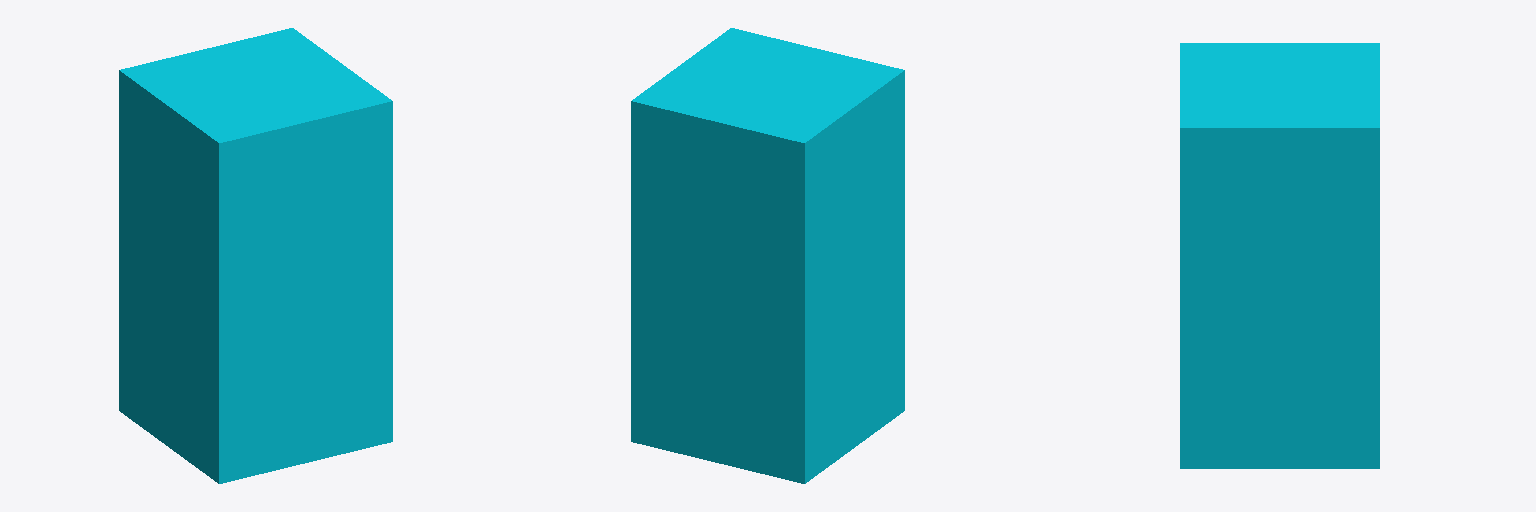
3 renders of one model, left to right at view 1: azimuth 30°, elevation 25°; view 2: azimuth 150°, elevation 25°; view 3: azimuth 270°, elevation 25°, orthographic.
Parts seen in each view (by area): view 1: 立方體_立方體.008; view 2: 立方體_立方體.008; view 3: 立方體_立方體.008.
Boxes of the visible parts, x1=… form: 立方體_立方體.008: x1=119, y1=28, x2=392, y2=483; 立方體_立方體.008: x1=631, y1=28, x2=904, y2=483; 立方體_立方體.008: x1=1180, y1=43, x2=1379, y2=468.
Size of the model in its own units: 0.8 by 1.5 by 0.8.
1 materials, 1 textured.